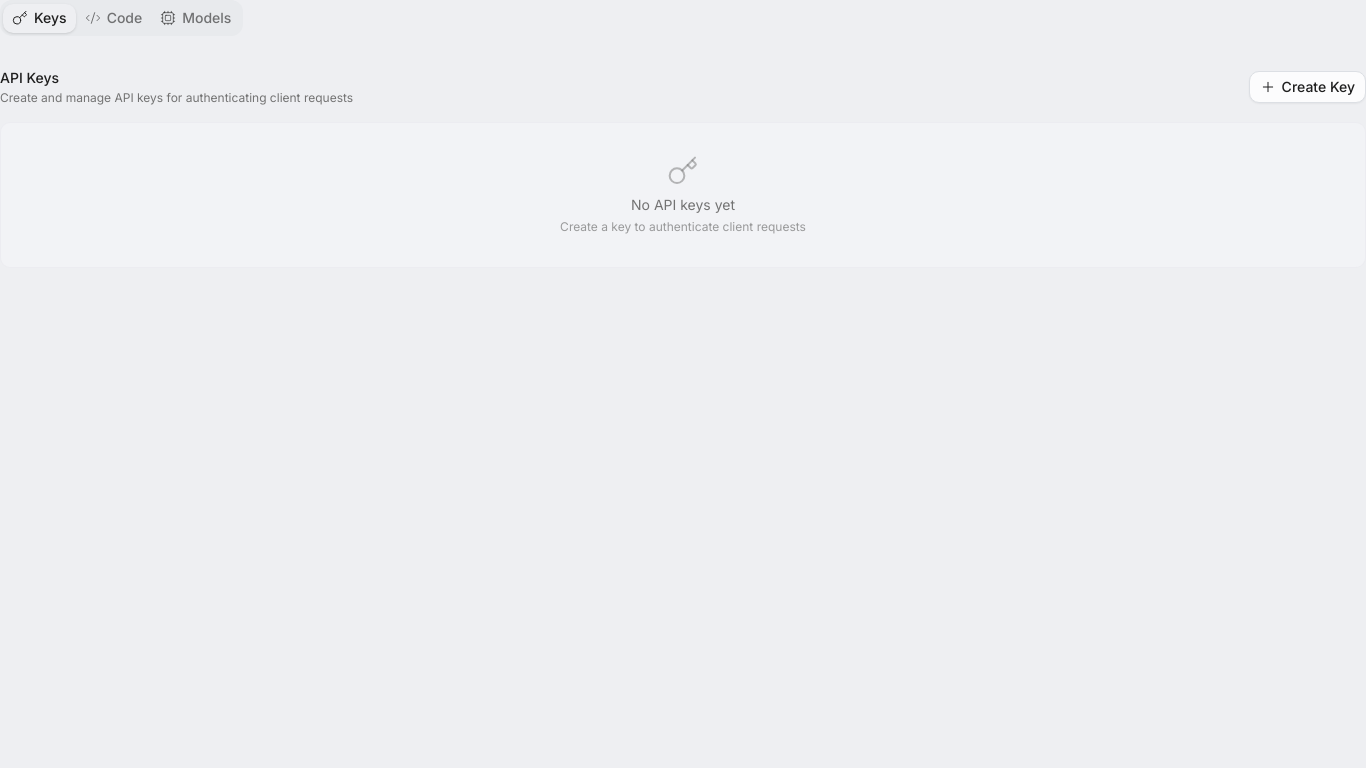
CreateKeyDialog › fetch throws → shows "Failed to create key"
Step 1. Click the button "Create Key" → (1307, 87), box [1249,71,1365,103]
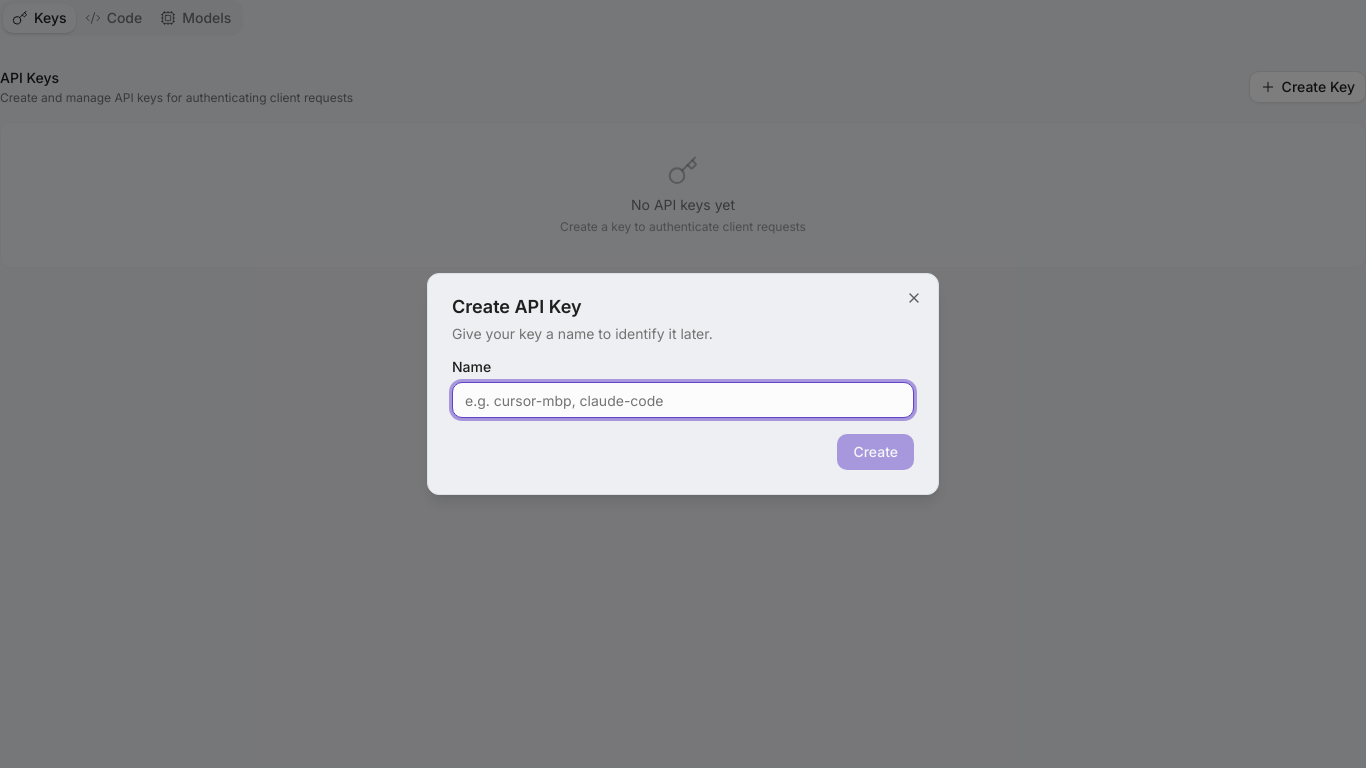
Step 2. Type "my-key" into the field with placeholder "e.g. cursor-mbp, claude-code" → (683, 400), box [452,382,914,418]
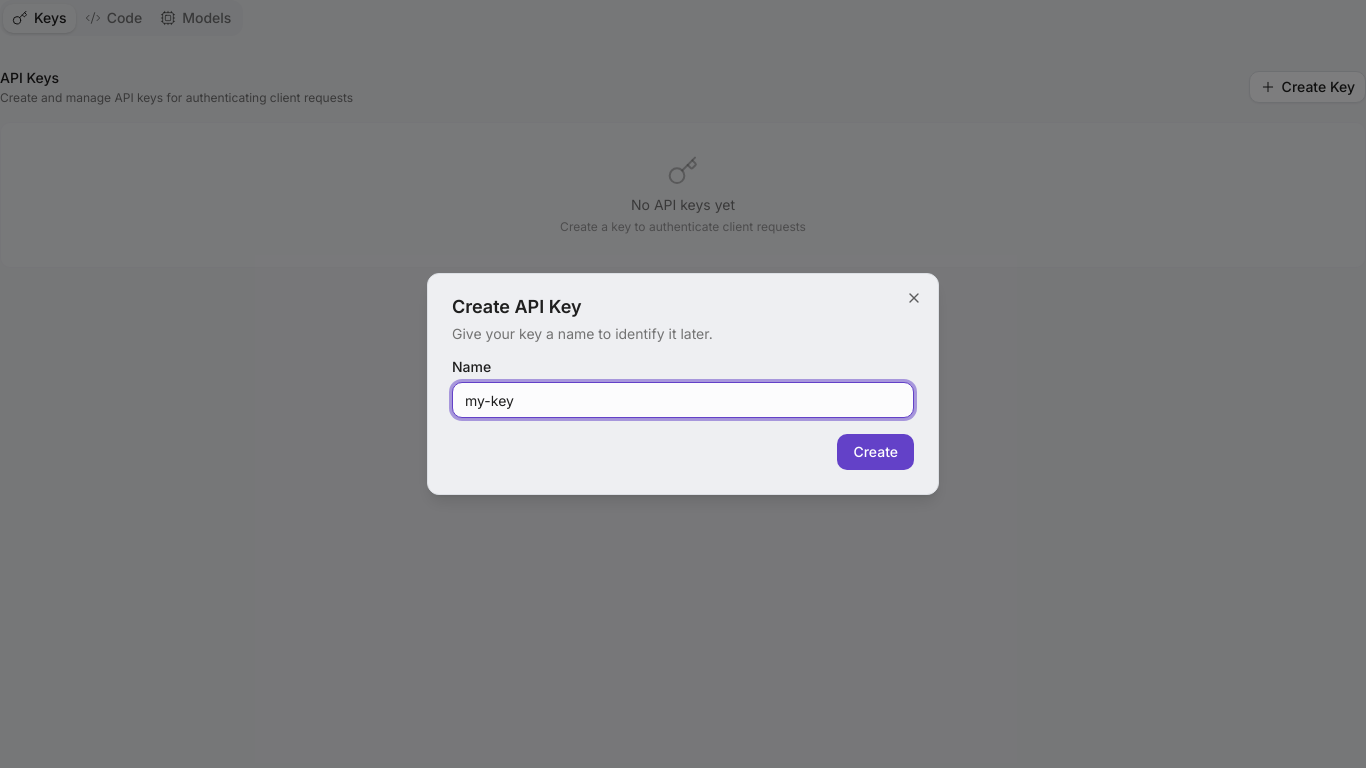
Step 3. Click the button "Create" → (876, 452), box [837,434,914,470]
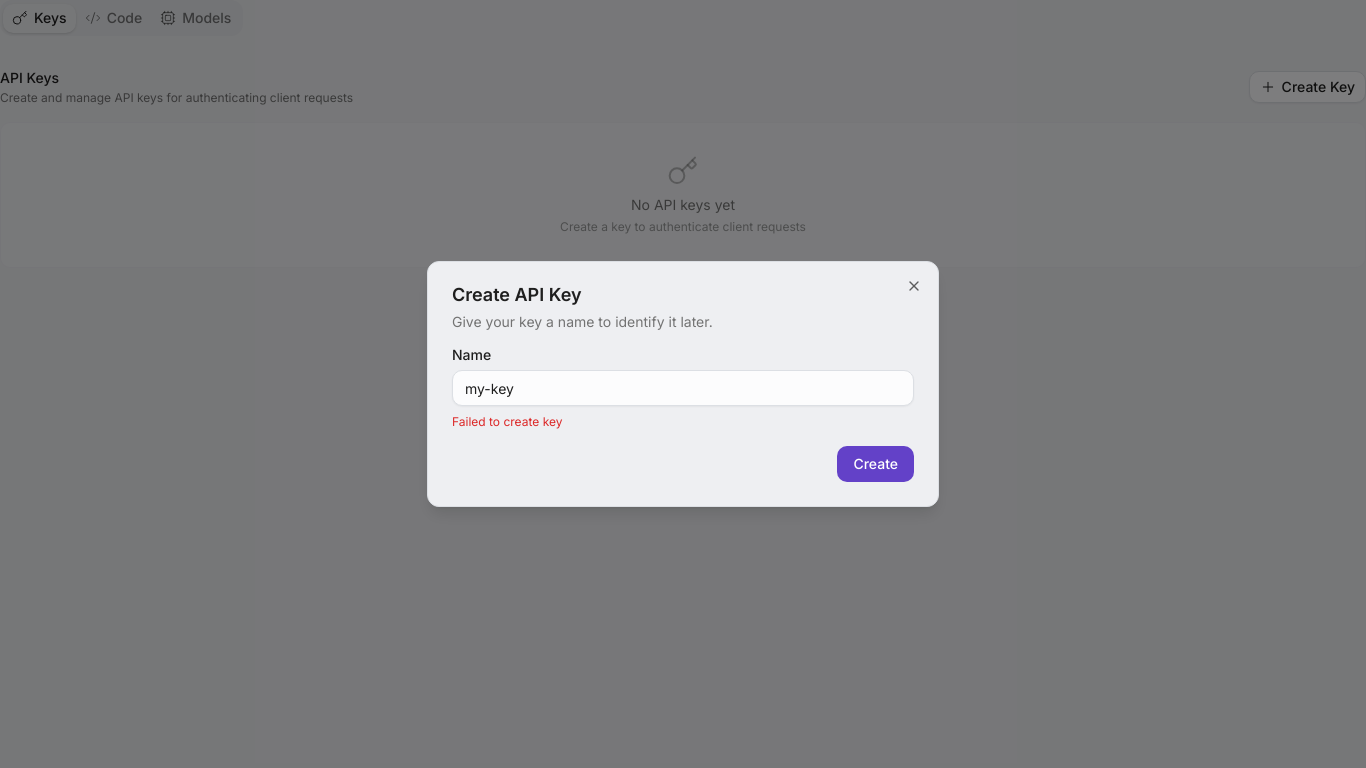
Result: the text "Failed to create key" is shown at [452,414,562,429]
